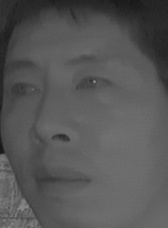eye: (74, 71, 114, 98), (8, 78, 41, 100)
mouth: (27, 161, 91, 199)
